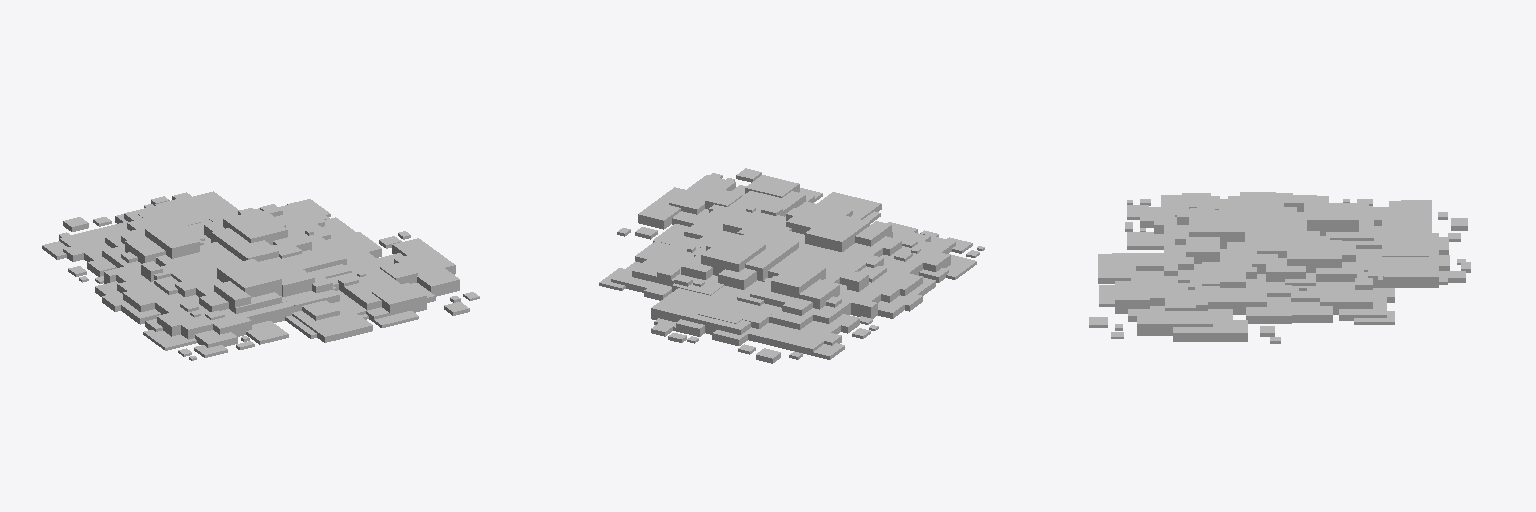
The model's file is Ilha Grande.obj.
3 views of the same model, side by side, from view 1: azimuth 30°, elevation 25°; view 2: azimuth 150°, elevation 25°; view 3: azimuth 270°, elevation 25° (orthographic).
Visible parts, largest first — view 1: ObjObject.010, ObjObject.008, ObjObject, ObjObject.002, ObjObject.001, ObjObject.006, ObjObject.003, ObjObject.007, ObjObject.004, ObjObject.005; view 2: ObjObject.010, ObjObject.008, ObjObject, ObjObject.002, ObjObject.006, ObjObject.003, ObjObject.007, ObjObject.005, ObjObject.001, ObjObject.004; view 3: ObjObject.010, ObjObject.001, ObjObject.008, ObjObject.003, ObjObject.007, ObjObject.002, ObjObject, ObjObject.004, ObjObject.005, ObjObject.006.
Part boxes in pixels (bbox=[...]): ObjObject.010: bbox=[281, 231, 479, 342]; ObjObject.008: bbox=[95, 263, 339, 360]; ObjObject: bbox=[154, 257, 281, 319]; ObjObject.002: bbox=[121, 222, 236, 281]; ObjObject.001: bbox=[237, 237, 365, 296]; ObjObject.006: bbox=[42, 222, 139, 283]; ObjObject.003: bbox=[204, 204, 313, 255]; ObjObject.007: bbox=[254, 199, 355, 239]; ObjObject.004: bbox=[124, 191, 239, 243]; ObjObject.005: bbox=[115, 192, 200, 233]; ObjObject.010: bbox=[617, 168, 881, 247]; ObjObject.008: bbox=[758, 222, 984, 318]; ObjObject: bbox=[789, 213, 920, 282]; ObjObject.002: bbox=[737, 256, 868, 315]; ObjObject.006: bbox=[748, 300, 878, 359]; ObjObject.003: bbox=[657, 235, 788, 288]; ObjObject.007: bbox=[599, 241, 702, 300]; ObjObject.005: bbox=[651, 297, 780, 345]; ObjObject.001: bbox=[721, 205, 828, 254]; ObjObject.004: bbox=[651, 275, 755, 334]; ObjObject.010: bbox=[1089, 245, 1291, 343]; ObjObject.001: bbox=[1178, 236, 1277, 289]; ObjObject.008: bbox=[1125, 192, 1328, 275]; ObjObject.003: bbox=[1278, 236, 1377, 290]; ObjObject.007: bbox=[1291, 274, 1394, 324]; ObjObject.002: bbox=[1278, 198, 1381, 247]; ObjObject: bbox=[1175, 203, 1277, 248]; ObjObject.004: bbox=[1356, 233, 1438, 287]; ObjObject.005: bbox=[1372, 229, 1470, 284]; ObjObject.006: bbox=[1343, 199, 1431, 232].
Bounding box in the file's own units: 42.1 × 4 × 46.51.